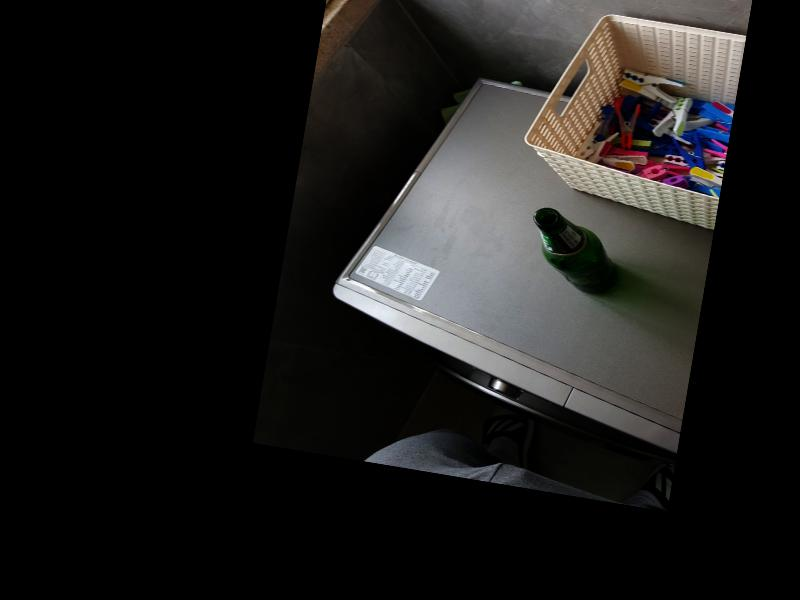Beer: (522, 206, 626, 298)
